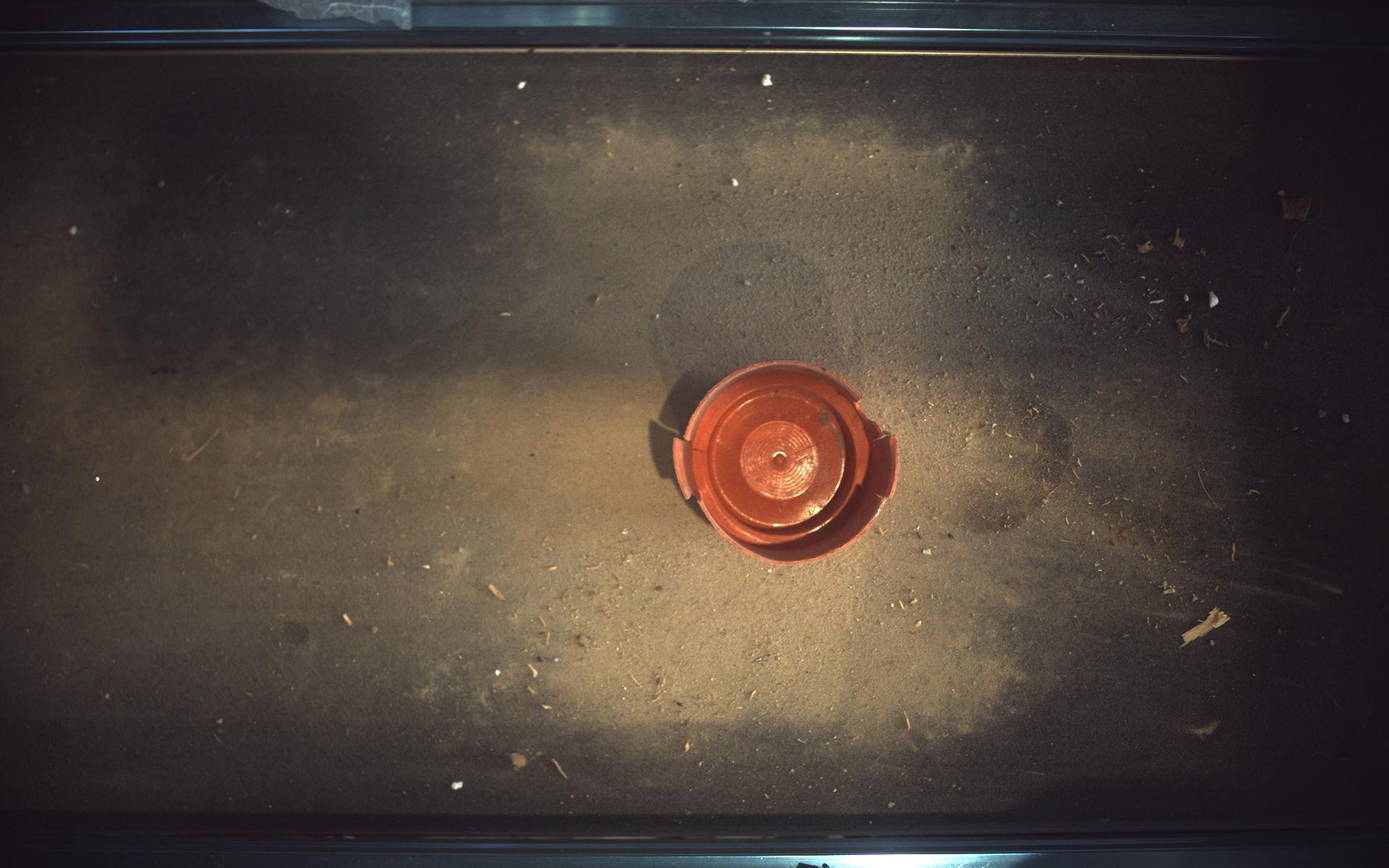plastic: (674, 361, 900, 565)
